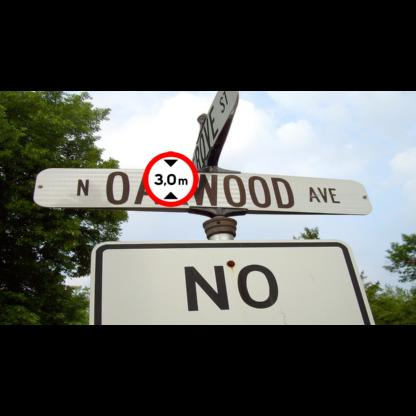R-15: (143, 151, 199, 207)
